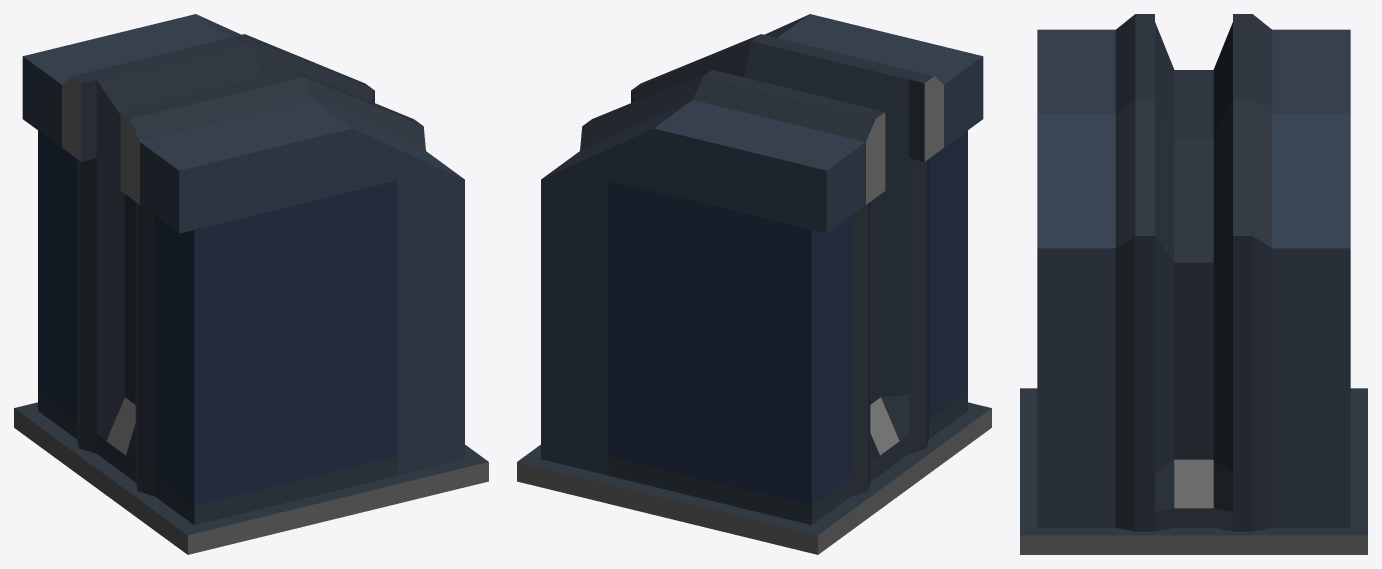
The picture shows the model from 3 angles, left to right: view 1: azimuth 30°, elevation 25°; view 2: azimuth 150°, elevation 25°; view 3: azimuth 270°, elevation 25°; orthographic projection.
Visible parts, largest first — view 1: Node1; view 2: Node1; view 3: Node1.
Boxes of the visible parts, <box> form: Node1: <box>14,14,488,554</box>; Node1: <box>517,14,991,554</box>; Node1: <box>1020,14,1367,554</box>.
Bounding box in the file's own units: 200 × 250 × 200.
